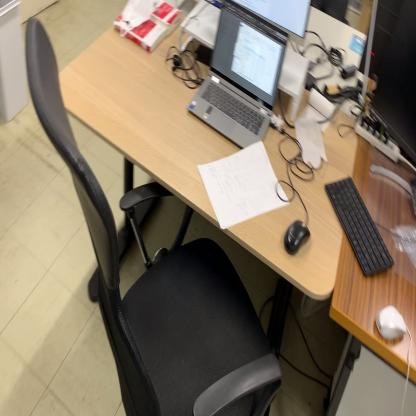chair: (23, 15, 281, 416)
